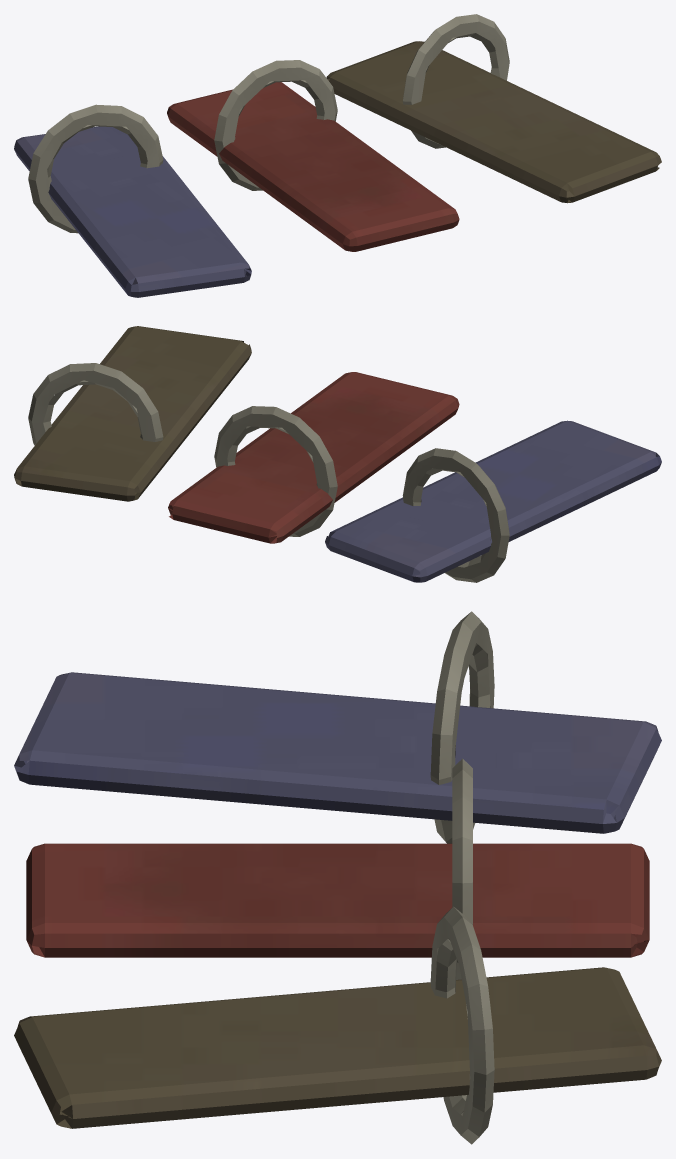
Rendered from CL15_Slippers.glb.
The picture shows the model from 3 angles, top to bottom: view 1: azimuth 30°, elevation 25°; view 2: azimuth 150°, elevation 25°; view 3: azimuth 270°, elevation 25°; orthographic projection. The views are drawn at different scales.
Visible parts, largest first — view 1: CL15_Slippers; view 2: CL15_Slippers; view 3: CL15_Slippers.
Boxes of the visible parts, x1,y1,x2,y2 form: CL15_Slippers: (14, 14, 661, 297); CL15_Slippers: (14, 326, 661, 582); CL15_Slippers: (14, 611, 661, 1144).
Size of the model in its own units: 0.25 by 0.0578 by 0.1566.
4 materials, 4 textured.
